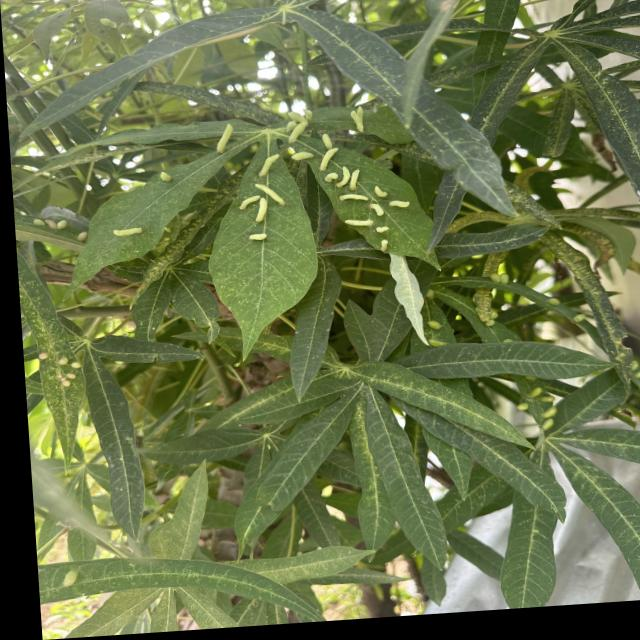Mosca: (337, 188, 414, 269), (301, 118, 364, 209), (505, 367, 577, 433), (27, 203, 96, 252), (280, 97, 318, 180), (533, 284, 592, 337), (30, 346, 85, 399), (238, 190, 288, 242), (414, 305, 457, 363), (612, 327, 640, 404), (249, 136, 282, 199), (191, 116, 243, 155), (155, 151, 197, 199), (46, 554, 95, 595), (482, 253, 521, 301), (342, 99, 391, 136), (472, 301, 510, 346), (107, 219, 157, 246), (411, 267, 447, 294)
